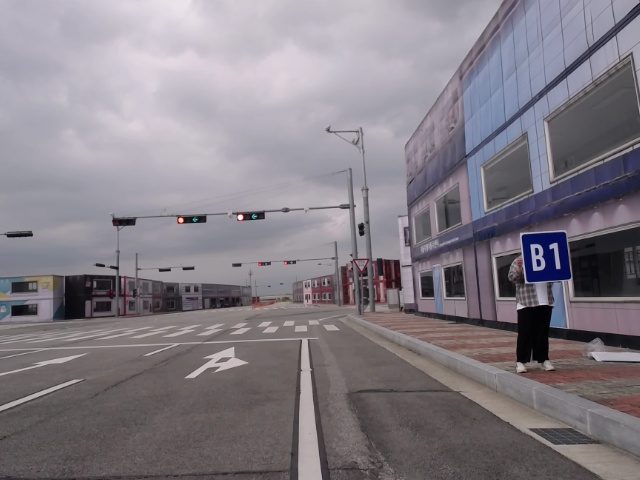delivery_b1: (521, 231, 572, 283)
left_green_4: (237, 212, 265, 220), (176, 216, 207, 223), (258, 262, 271, 266), (284, 261, 296, 264)
